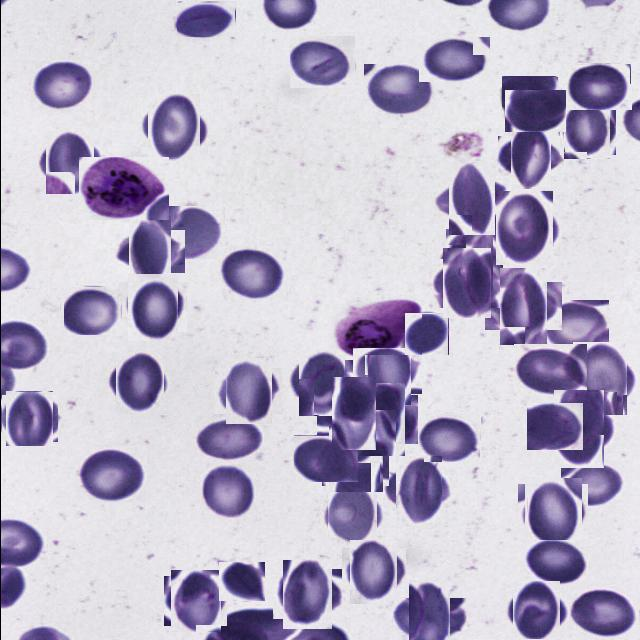difficult: (336, 298, 421, 355)
red blood cell: (491, 194, 556, 260), (568, 346, 632, 411), (545, 397, 610, 461), (520, 481, 584, 544), (75, 446, 146, 502), (363, 64, 435, 118), (492, 276, 554, 338), (513, 344, 586, 396), (217, 246, 286, 300), (350, 389, 411, 450), (567, 586, 637, 639), (276, 564, 336, 624), (144, 98, 204, 158), (324, 429, 384, 489), (539, 300, 608, 352), (436, 254, 496, 313), (441, 169, 500, 229), (289, 35, 355, 88), (323, 383, 382, 442), (122, 278, 182, 336), (358, 342, 416, 400), (388, 462, 446, 520), (160, 206, 223, 259), (192, 418, 264, 464), (418, 36, 490, 82), (120, 223, 178, 280), (166, 572, 222, 630), (292, 354, 348, 412), (440, 234, 498, 290), (220, 362, 276, 420), (564, 63, 631, 110), (41, 134, 97, 190), (345, 544, 401, 600), (199, 462, 255, 518), (418, 412, 480, 462), (28, 60, 90, 110), (111, 355, 166, 411), (293, 435, 358, 482), (60, 286, 122, 335), (324, 487, 379, 542), (400, 590, 459, 640), (508, 585, 562, 639), (524, 539, 587, 585), (560, 462, 624, 506), (503, 130, 556, 182), (526, 402, 583, 450), (2, 392, 54, 444), (560, 106, 612, 157), (501, 76, 561, 120), (504, 90, 565, 132), (176, 1, 235, 38), (404, 313, 448, 355), (218, 562, 264, 601)
trophozoite: (78, 157, 168, 220)
